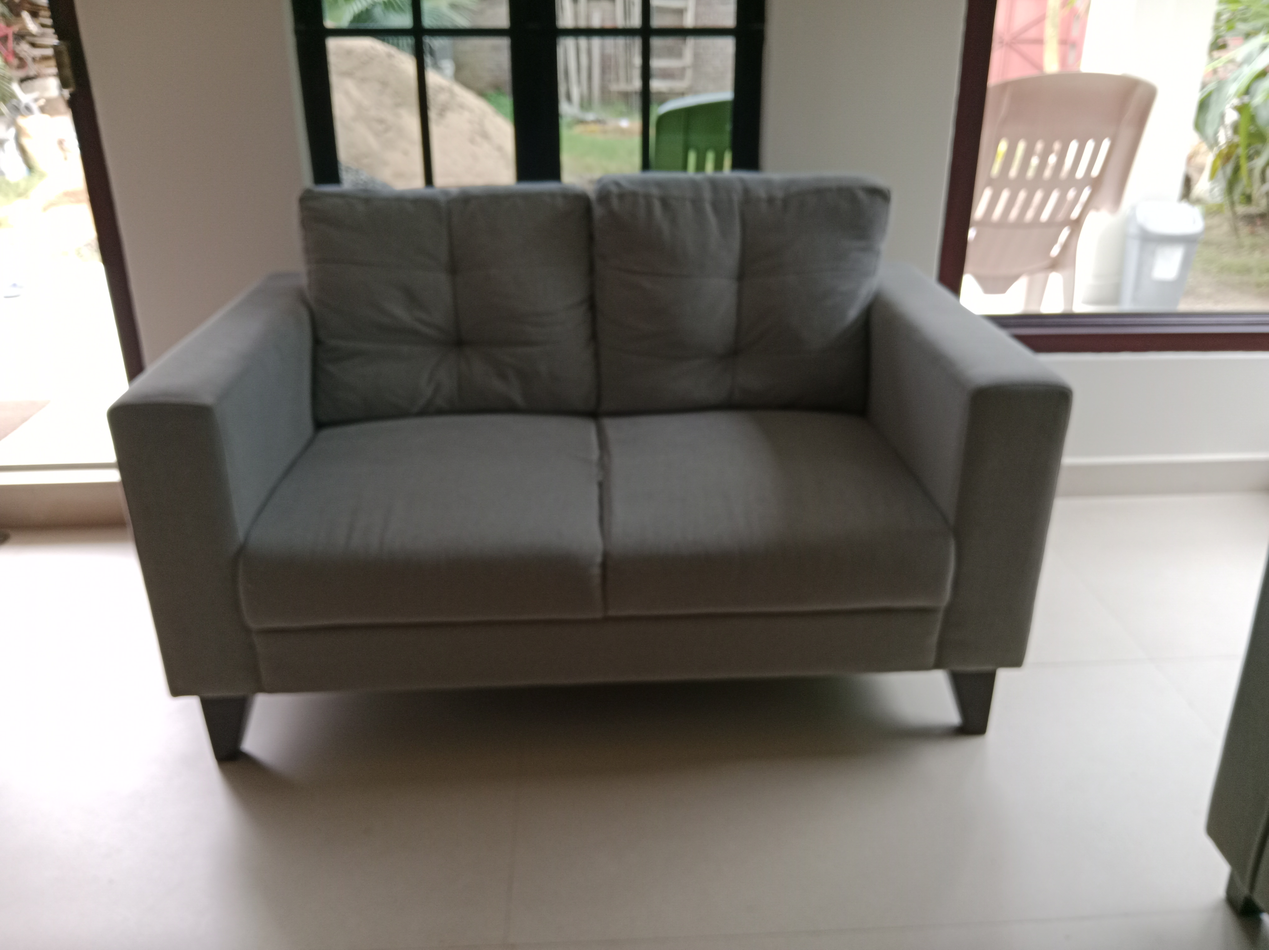sofa: (106, 173, 1068, 759)
